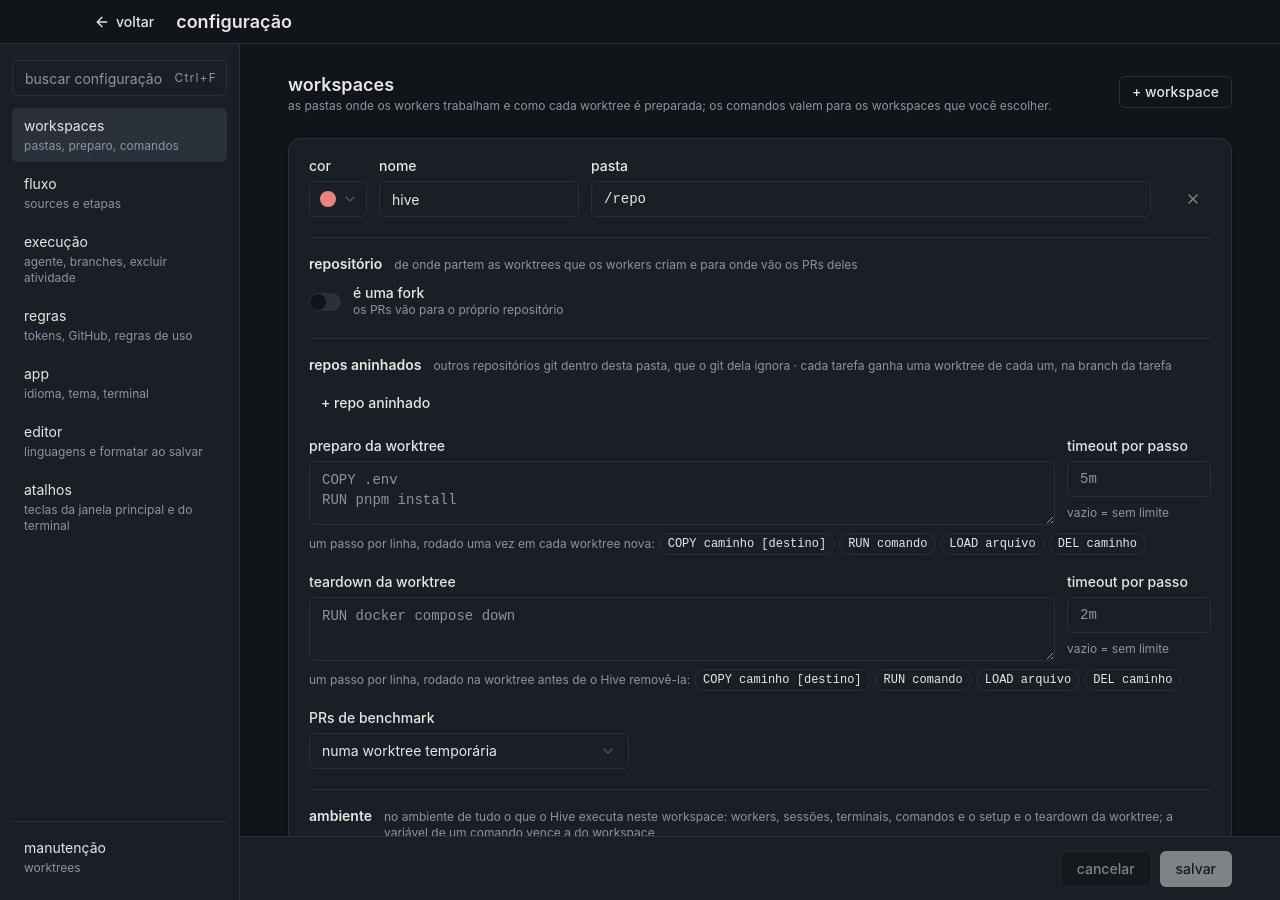
Test case: a problem on save opens its section with the message (#510)
The width and height of the screenshot is (1280, 900).
Click the button "execução".
click(120, 259)  # box top-left (12, 224), bottom-right (227, 294)
(page scrolled)
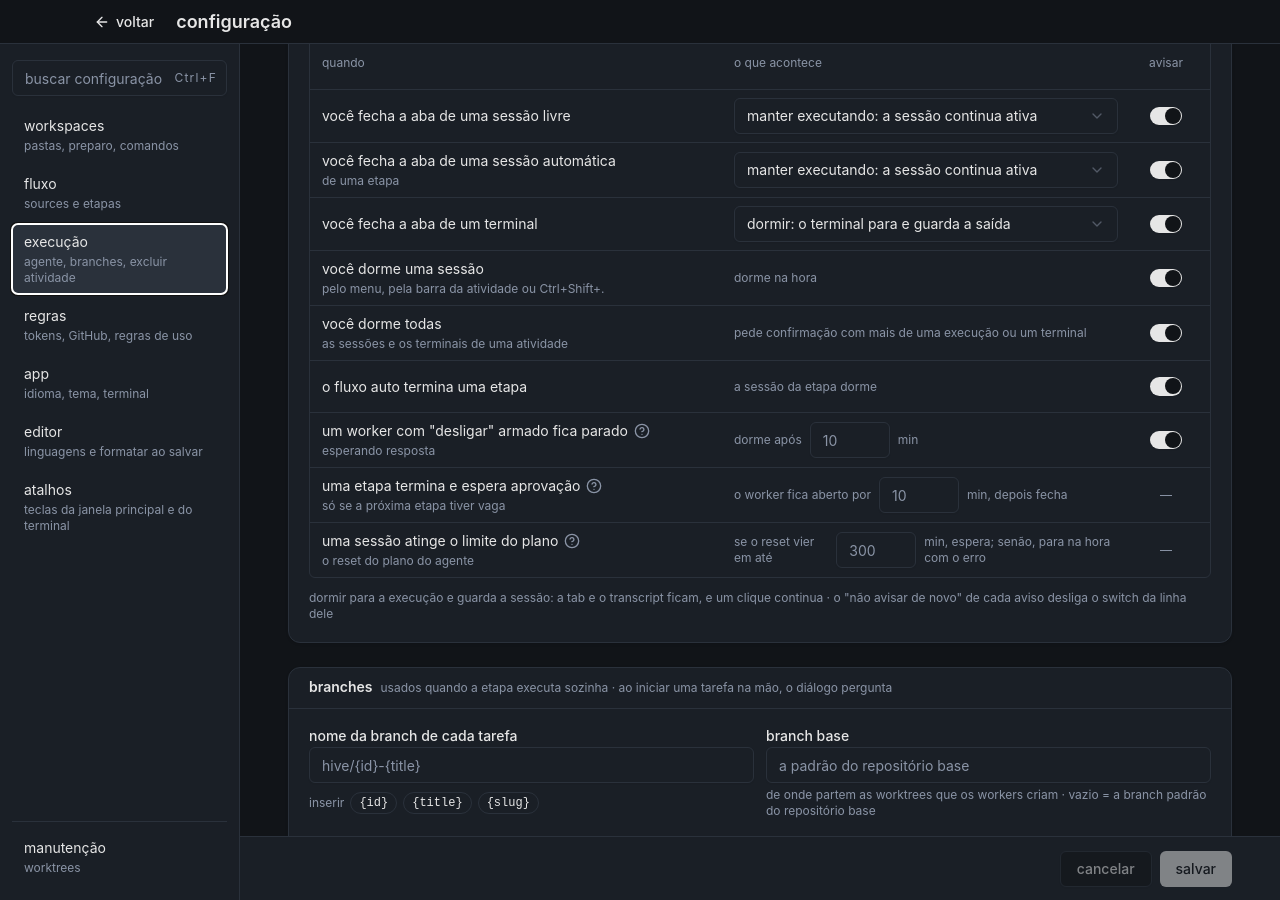
Replace the text in the number field named "desligar worker parado após (min)" with "0" at x=850, y=440, box top-left (810, 422), bottom-right (890, 458)
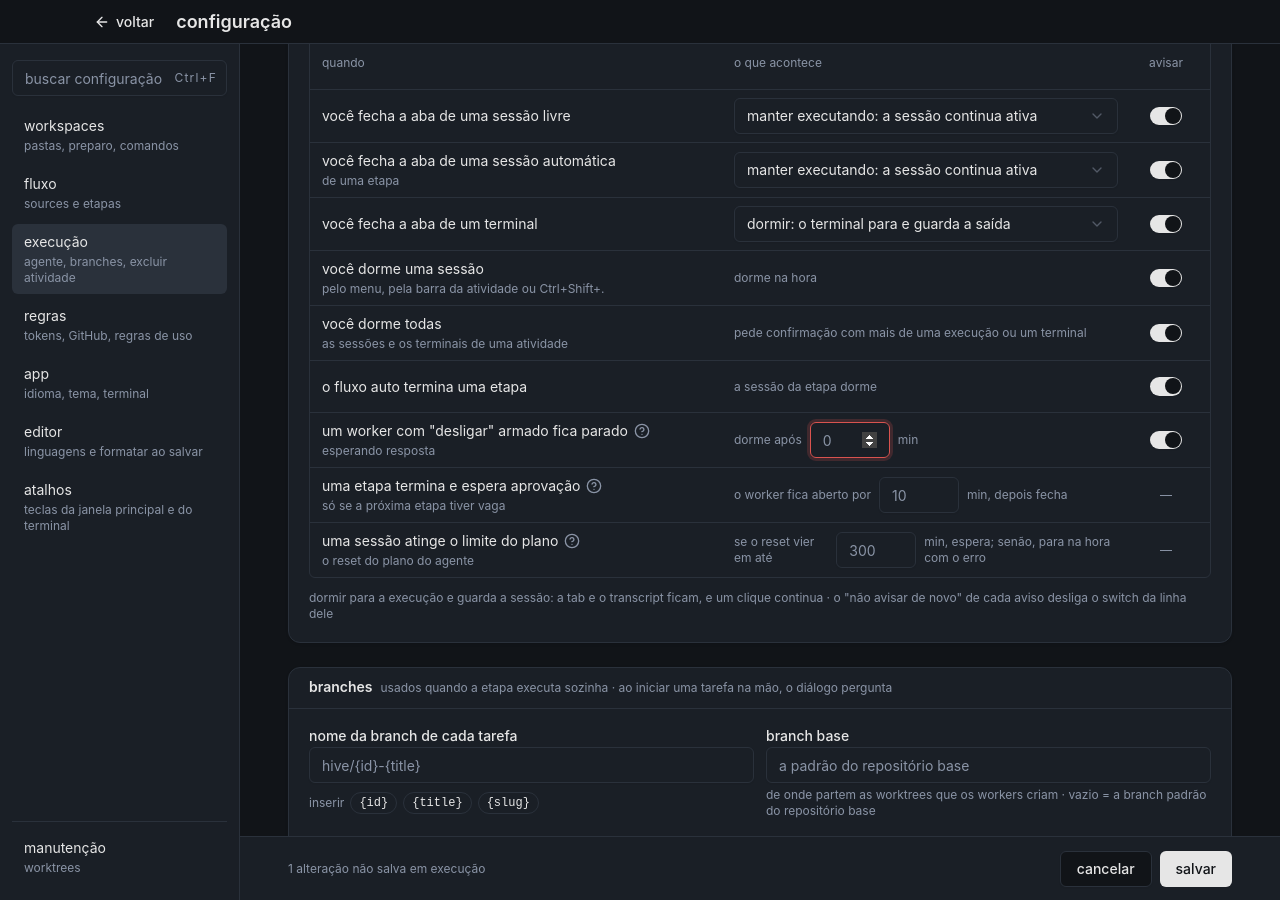
Click the button "app idioma, tema, terminal".
click(120, 383)  # box top-left (12, 356), bottom-right (227, 410)
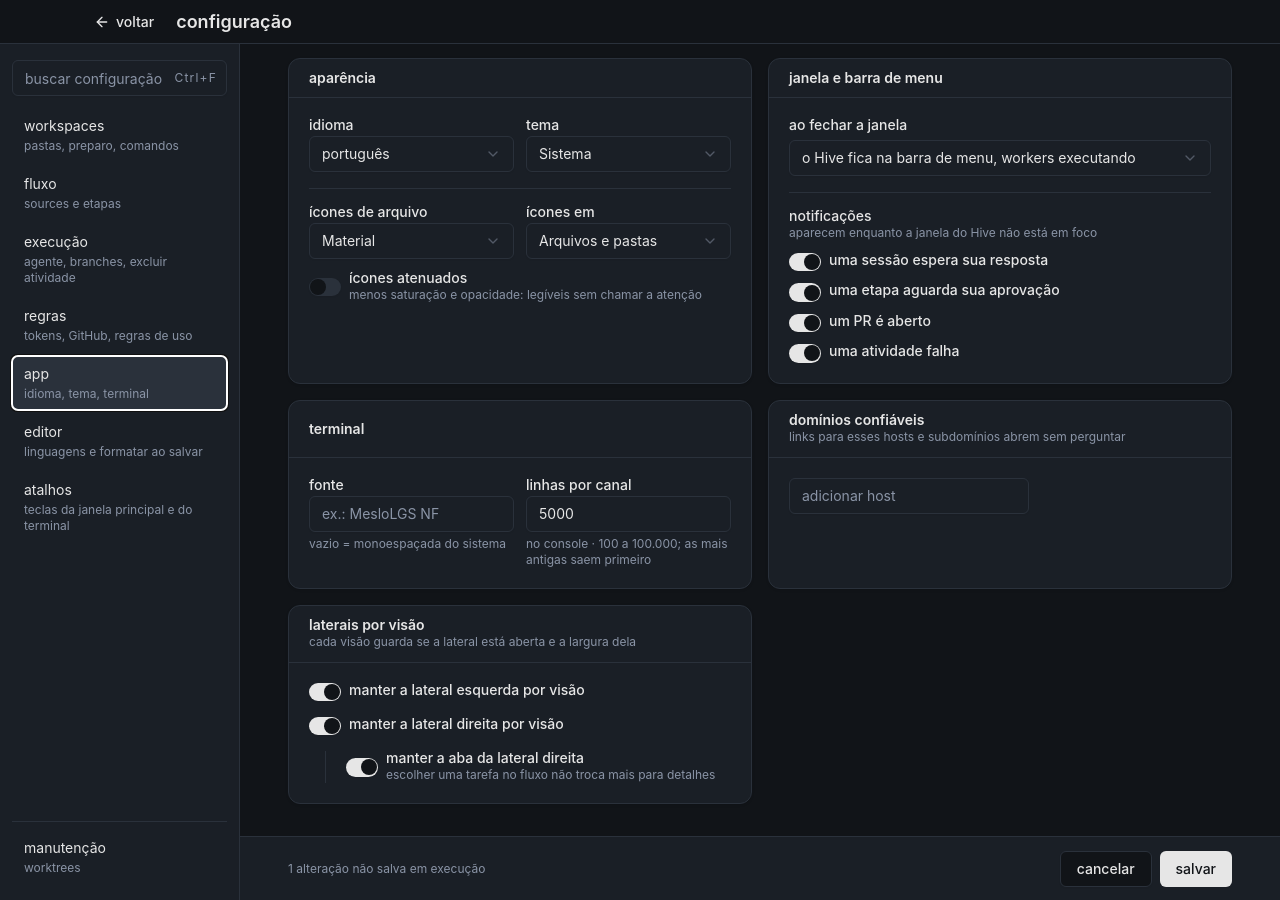
Click the button "salvar".
click(1196, 868)  # box top-left (1160, 850), bottom-right (1232, 886)
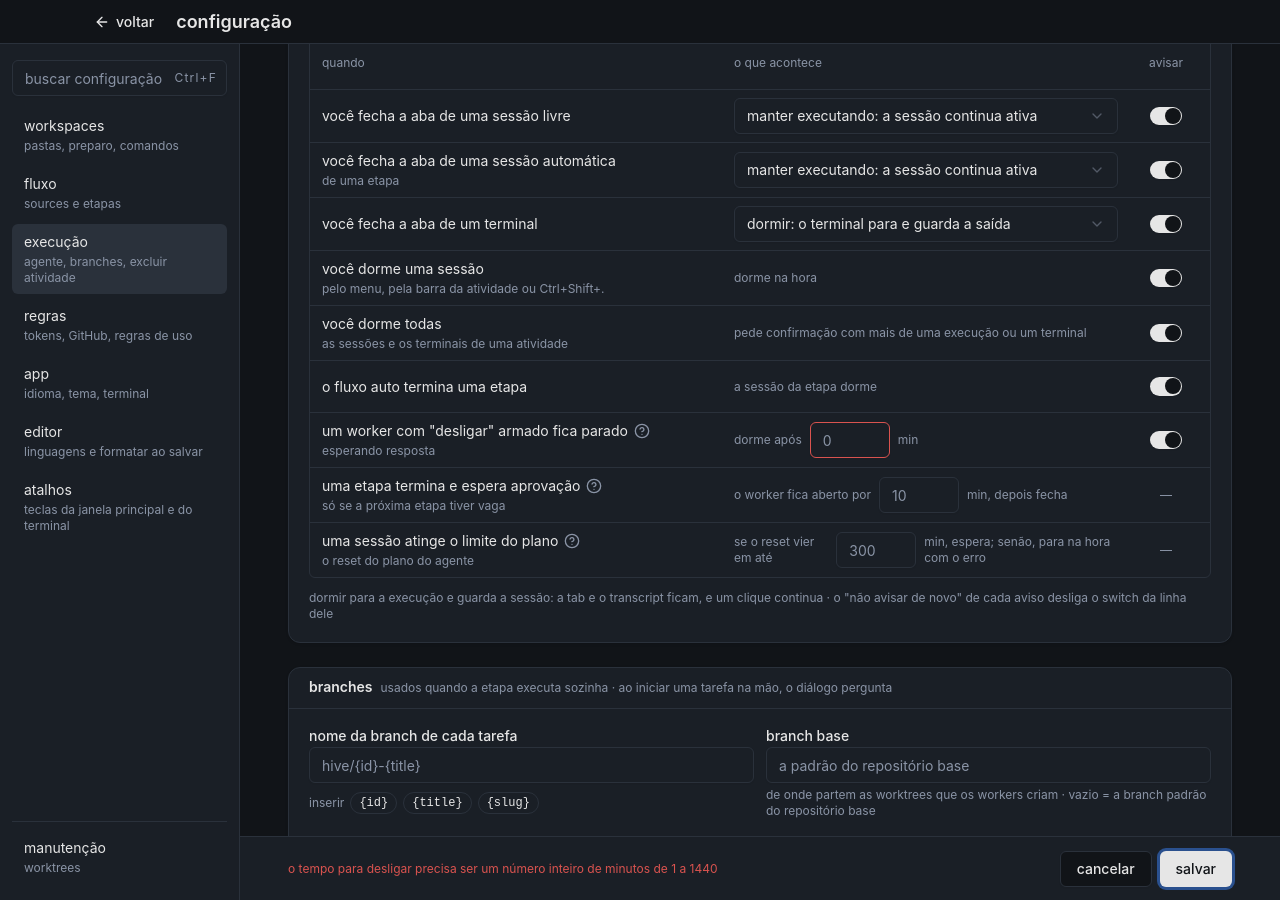
Check: the message reads "o tempo para desligar precisa ser um número inteiro de minutos de 1 a 1440", box top-left (288, 860), bottom-right (718, 876)
